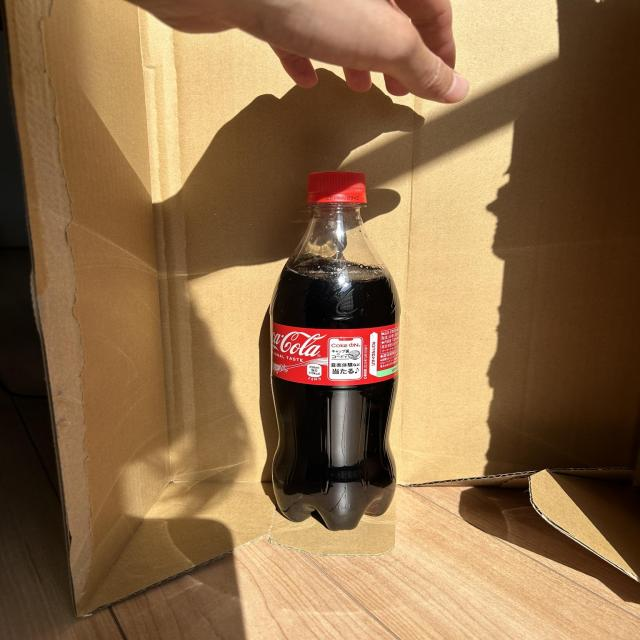high: (269, 171, 400, 531)
